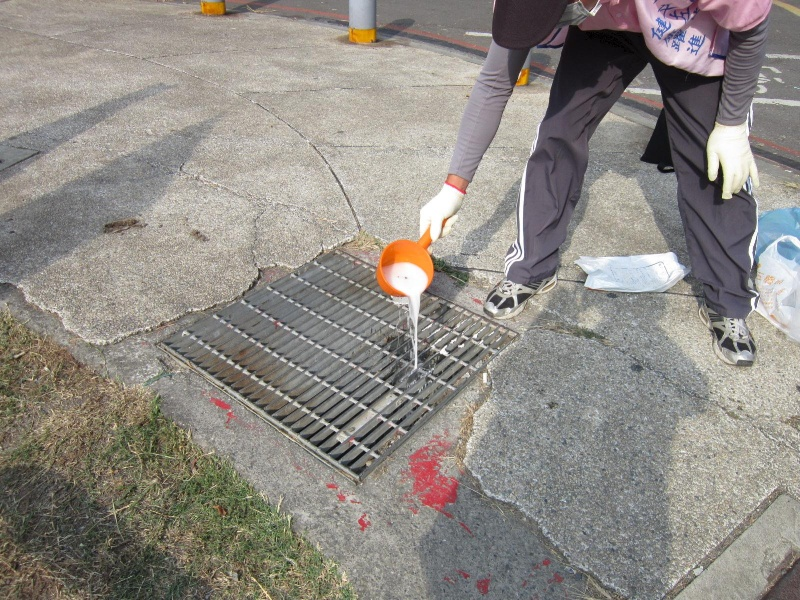bowl: (374, 236, 436, 305)
